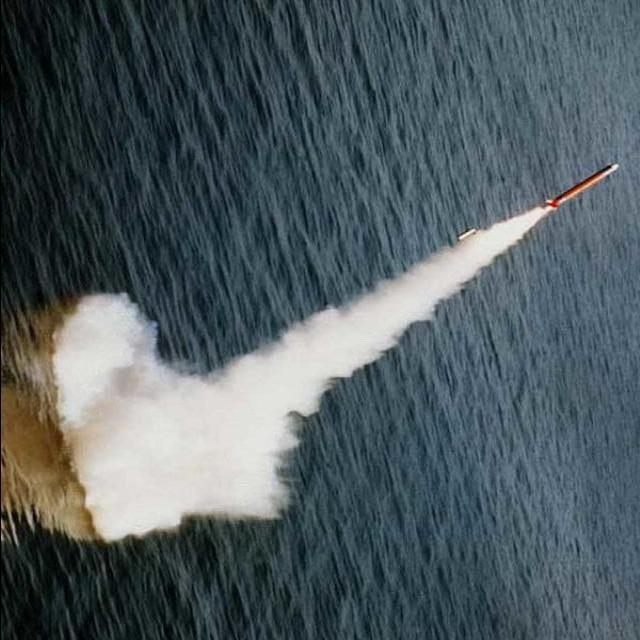Missile: (537, 158, 629, 216)
